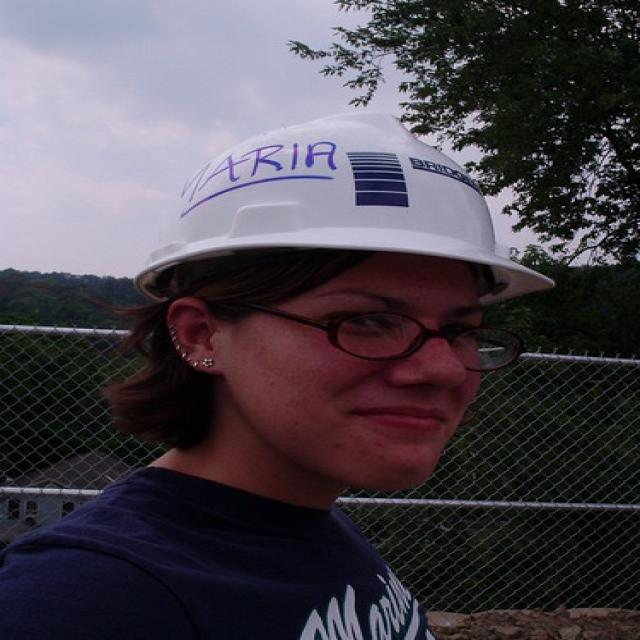Safety-Helmet: (124, 112, 565, 300)
